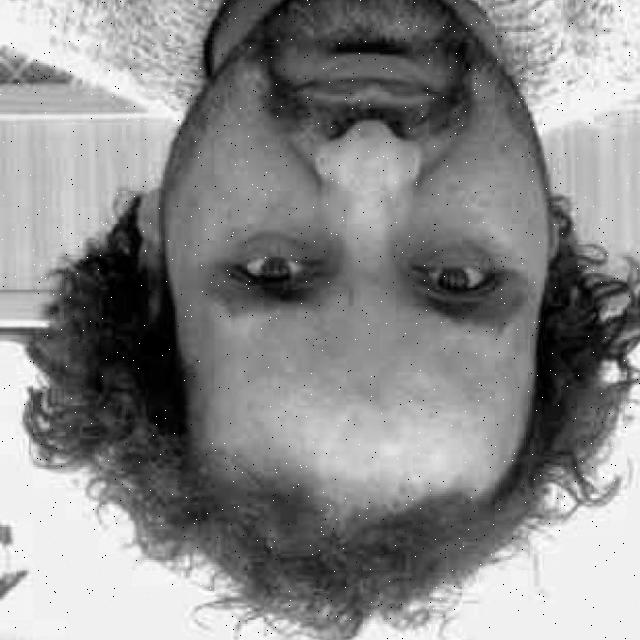puffy_eyes: (237, 235, 311, 261)
